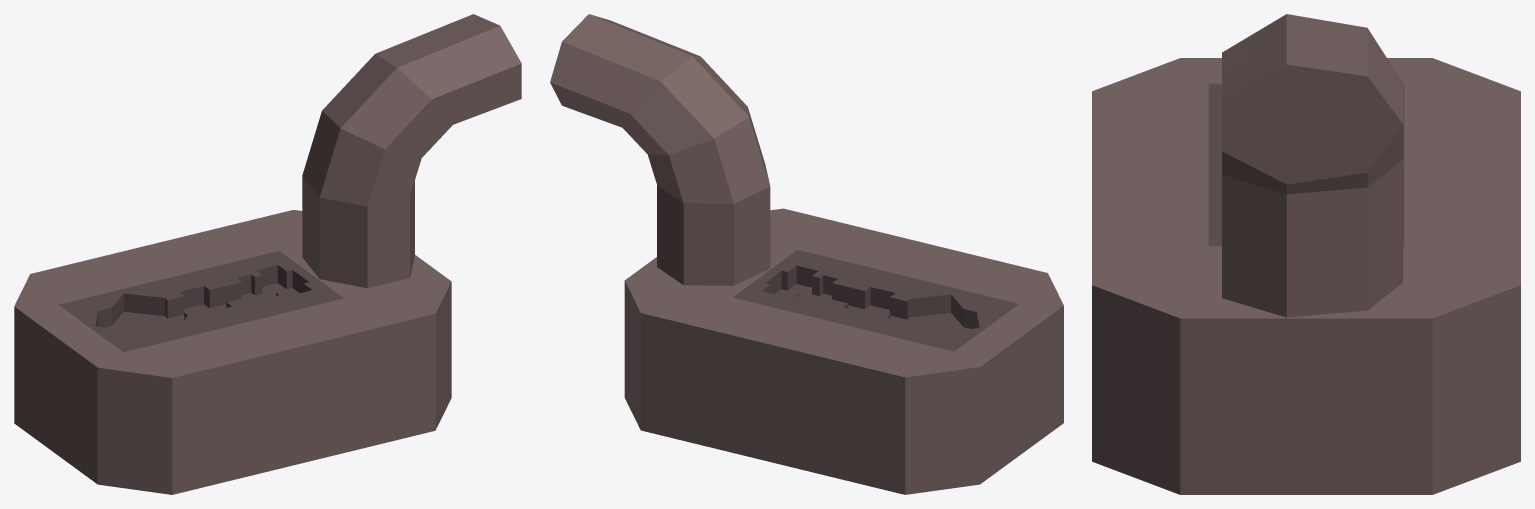
Rendered from DoubleKeyCast.fbx.
3 renders of one model, left to right at view 1: azimuth 30°, elevation 25°; view 2: azimuth 150°, elevation 25°; view 3: azimuth 270°, elevation 25°, orthographic. The views are drawn at different scales.
Parts seen in each view (by area): view 1: DoubleKeyCast; view 2: DoubleKeyCast; view 3: DoubleKeyCast.
Boxes of the visible parts, x1,y1,x2,y2 form: DoubleKeyCast: (14,14,521,494); DoubleKeyCast: (550,14,1063,494); DoubleKeyCast: (1092,14,1520,494).
Size of the model in its own units: 278 by 198 by 156.
